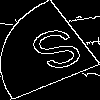S: (25, 25, 95, 82)
